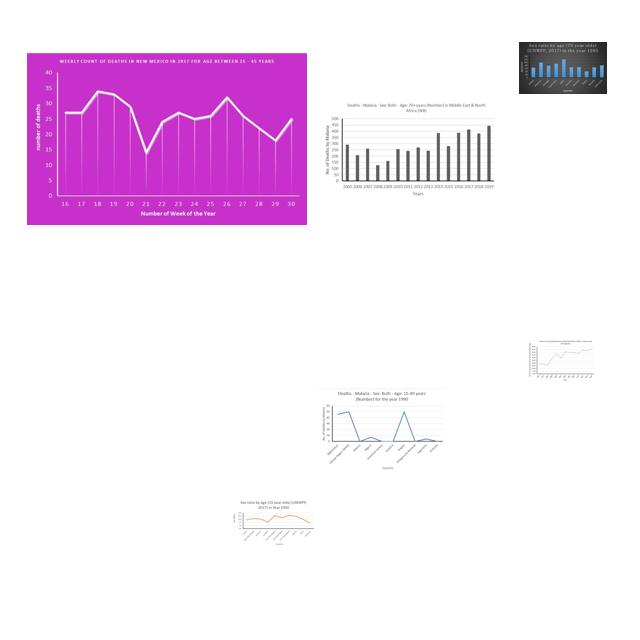Graph: (27, 53, 307, 225), (319, 99, 498, 198), (318, 388, 446, 474), (519, 42, 607, 94), (232, 499, 316, 546), (528, 339, 595, 381)
